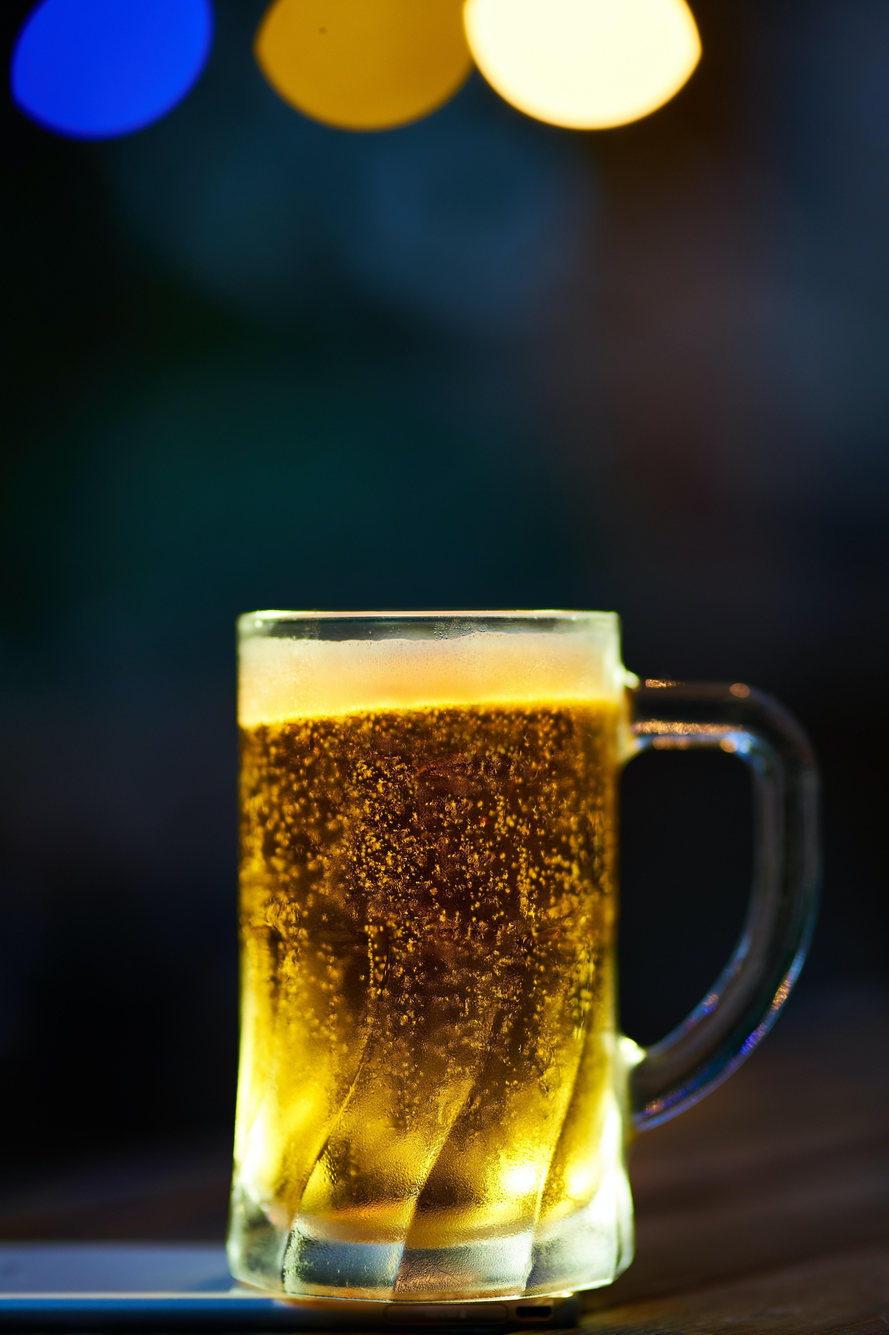glass-mug: (217, 591, 829, 1312)
